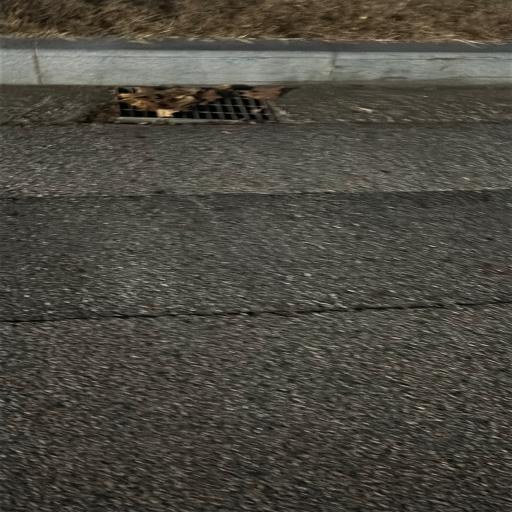debris: (243, 87, 279, 121), (257, 116, 261, 120), (251, 107, 255, 111)
drain: (114, 85, 281, 121)
